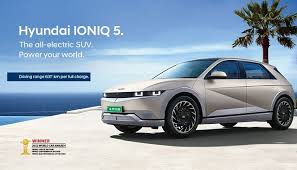Honda Ioniq: (99, 48, 297, 152)
